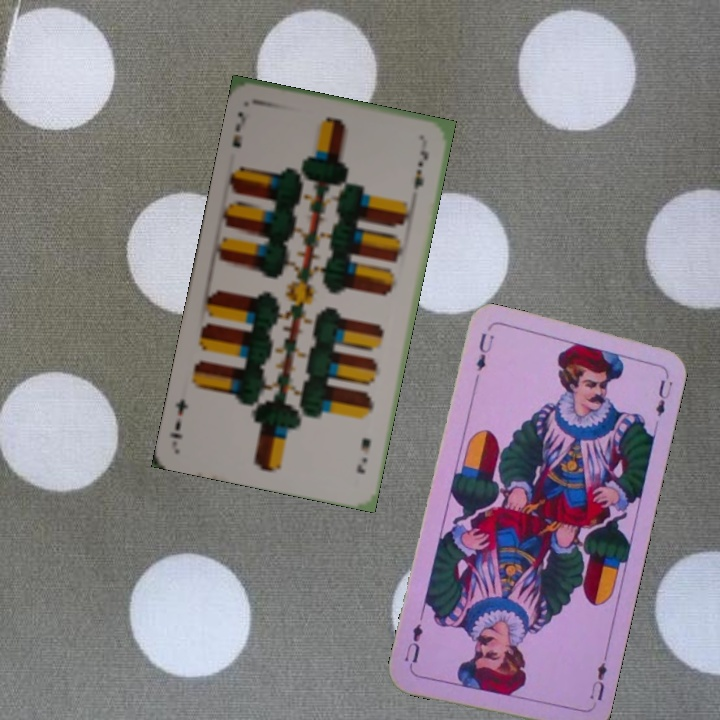E7: (352, 433, 373, 477), (228, 107, 249, 150)
EU: (585, 651, 610, 704), (472, 329, 497, 373)
